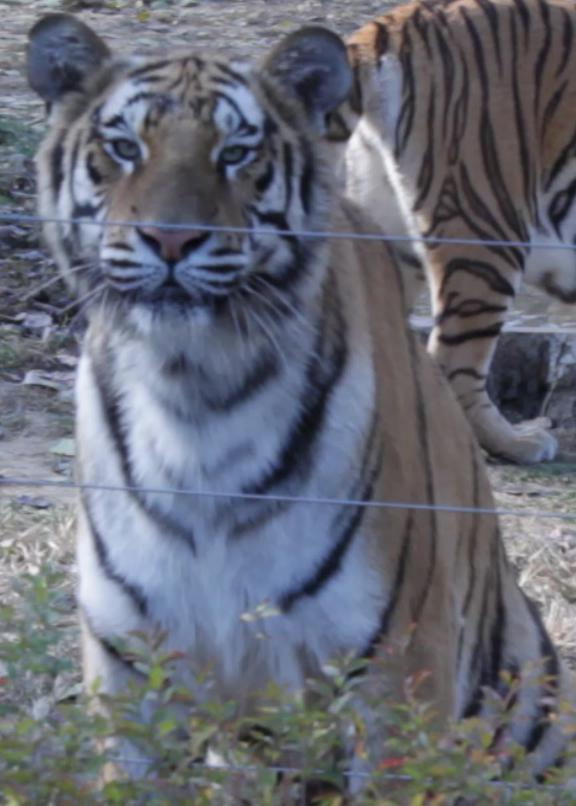tiger: (28, 0, 575, 772)
